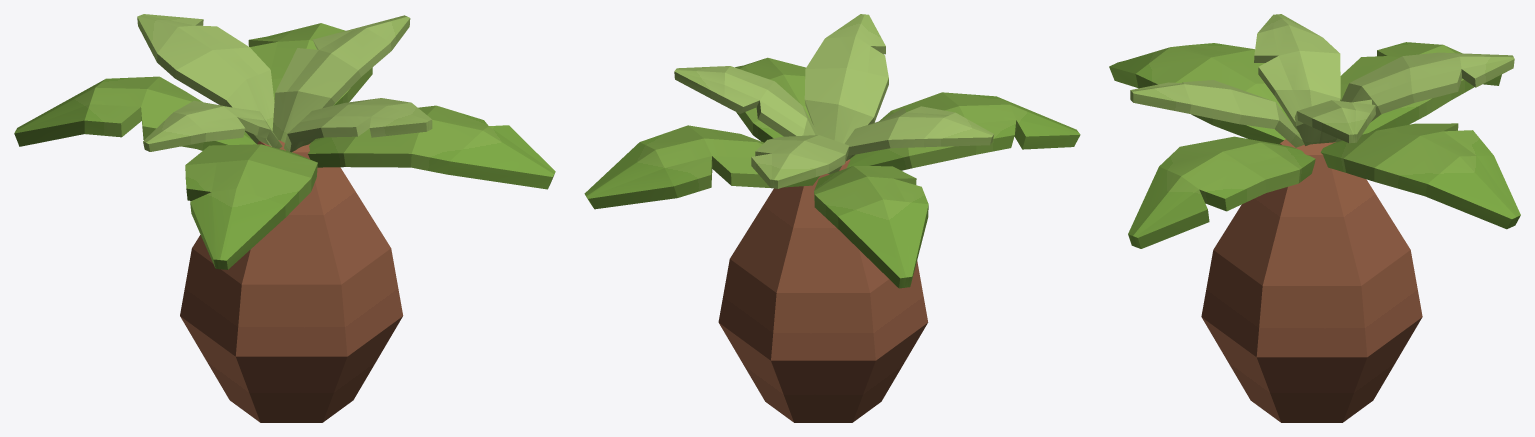
The model's file is little_palm_tree.glb.
The picture shows the model from 3 angles, left to right: view 1: azimuth 30°, elevation 25°; view 2: azimuth 150°, elevation 25°; view 3: azimuth 270°, elevation 25°; orthographic projection. The views are drawn at different scales.
Visible parts, largest first — view 1: little palm tree; view 2: little palm tree; view 3: little palm tree.
Boxes of the visible parts, bbox=[...] form: little palm tree: bbox=[14, 14, 555, 422]; little palm tree: bbox=[584, 14, 1080, 422]; little palm tree: bbox=[1109, 14, 1520, 422].
Bounding box in the file's own units: 2.19 × 1.96 × 2.18.
1 material, 1 textured.
